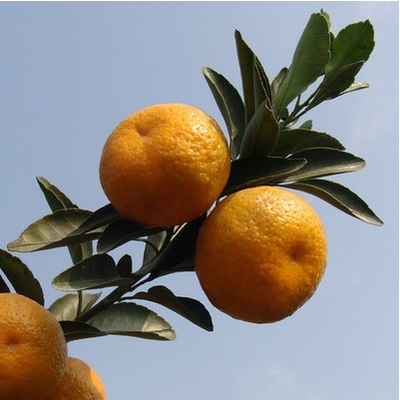orange: (194, 183, 327, 322), (99, 102, 232, 227), (1, 292, 67, 400), (39, 355, 107, 400)
